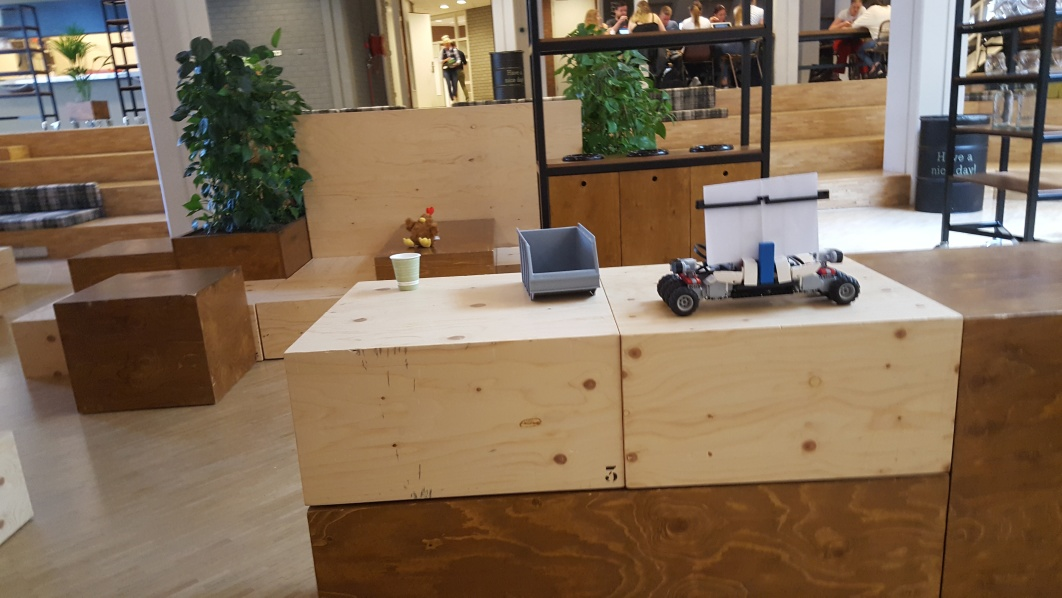beam: (758, 240, 778, 289)
chicken: (403, 205, 441, 251)
cup: (388, 251, 421, 290)
tray: (513, 223, 602, 299)
